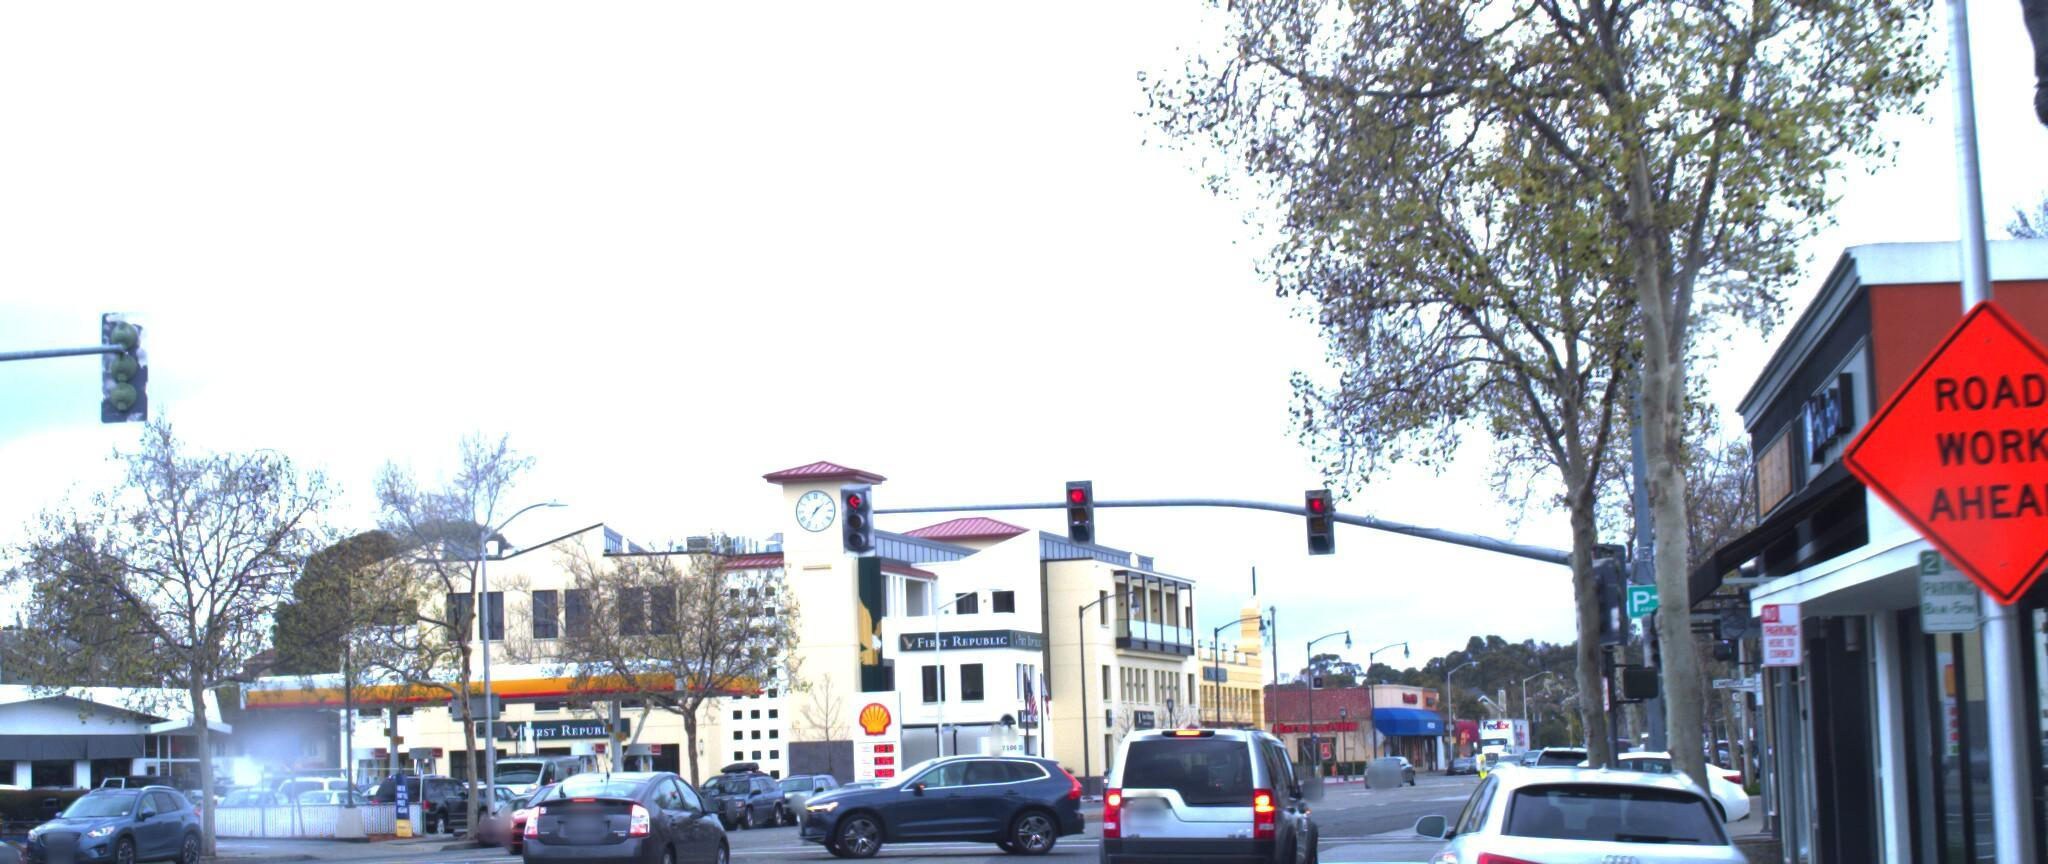car: (1405, 770, 1788, 864), (1091, 714, 1328, 864), (1546, 754, 1855, 859), (780, 764, 1081, 864), (507, 786, 748, 864), (20, 795, 218, 864), (1831, 807, 2048, 864)
